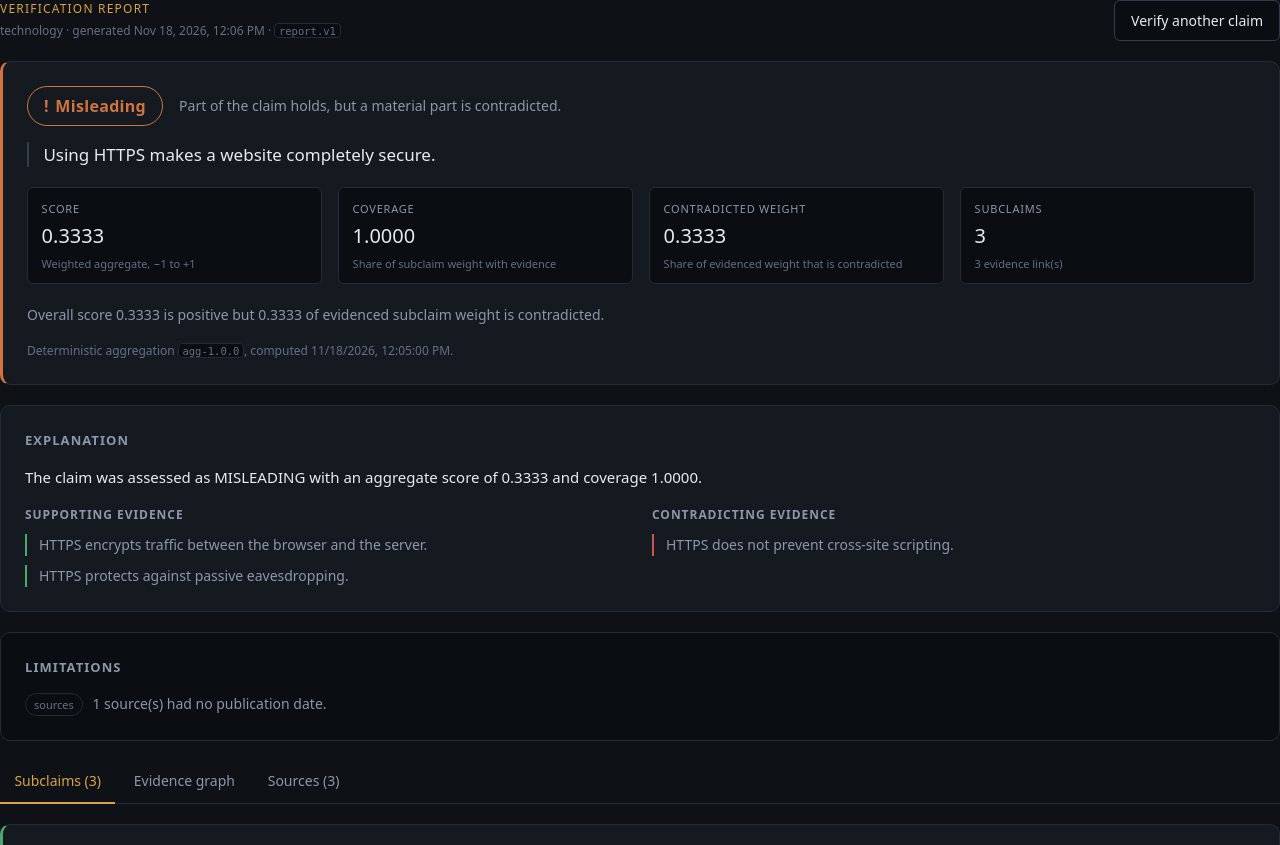
Test: ReportView — tab switching › switches between subclaims, graph and sources
The width and height of the screenshot is (1280, 845).
Click the tab "Evidence graph" at (184, 782), box top-left (119, 761), bottom-right (249, 804)
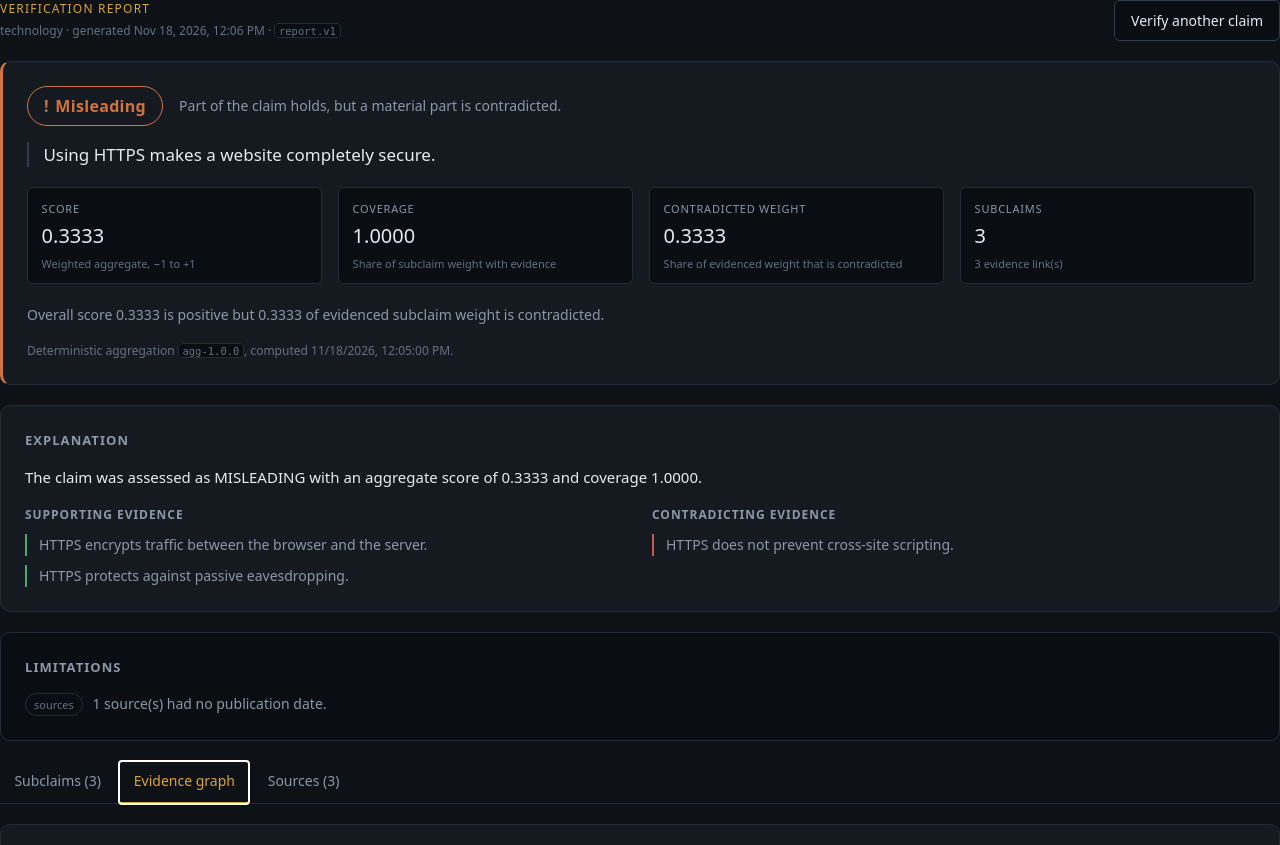
Expected: the tab "Evidence graph" is selected, top-left (119, 761), bottom-right (249, 804)
Click the tab "Sources (3)" at (304, 782), box top-left (253, 761), bottom-right (354, 804)
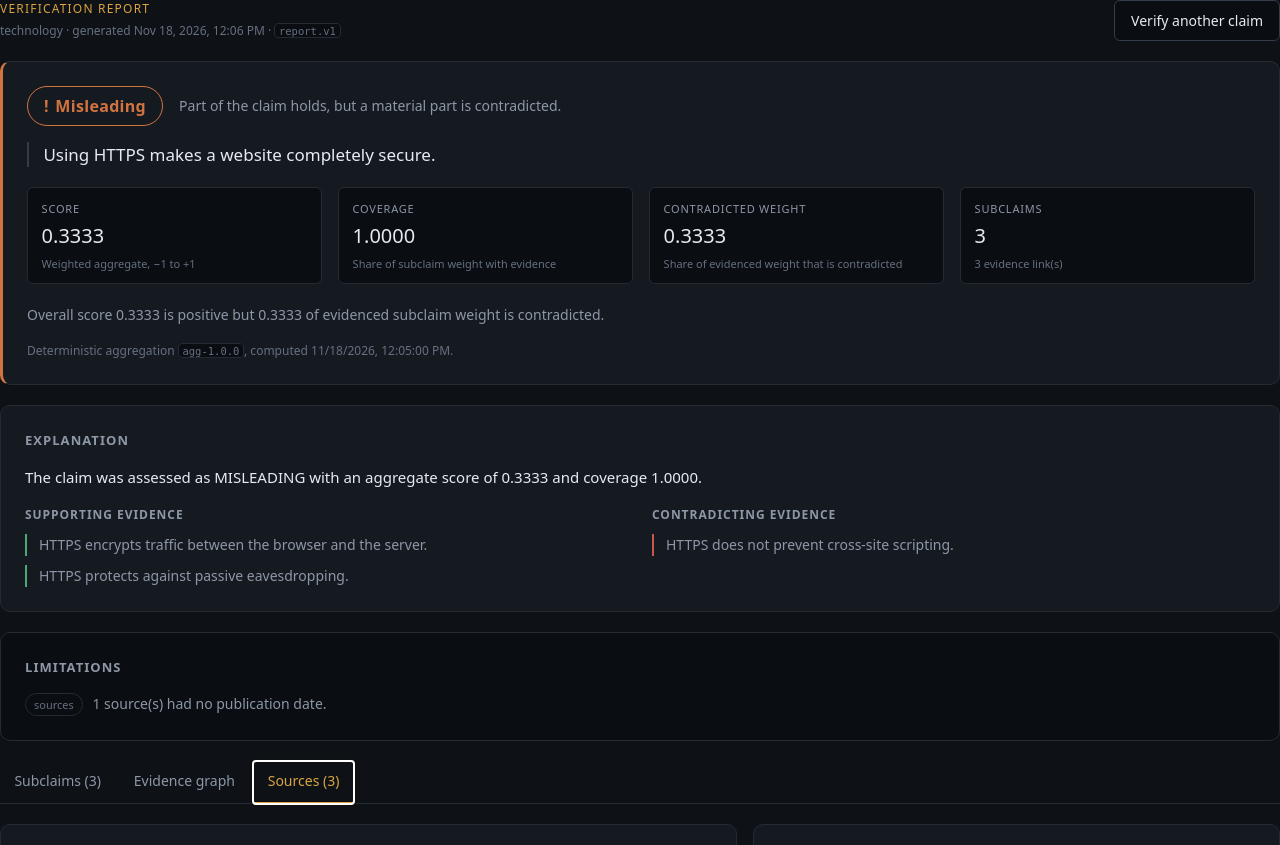
Expected: the tab "Sources (3)" is selected, top-left (253, 761), bottom-right (354, 804)
